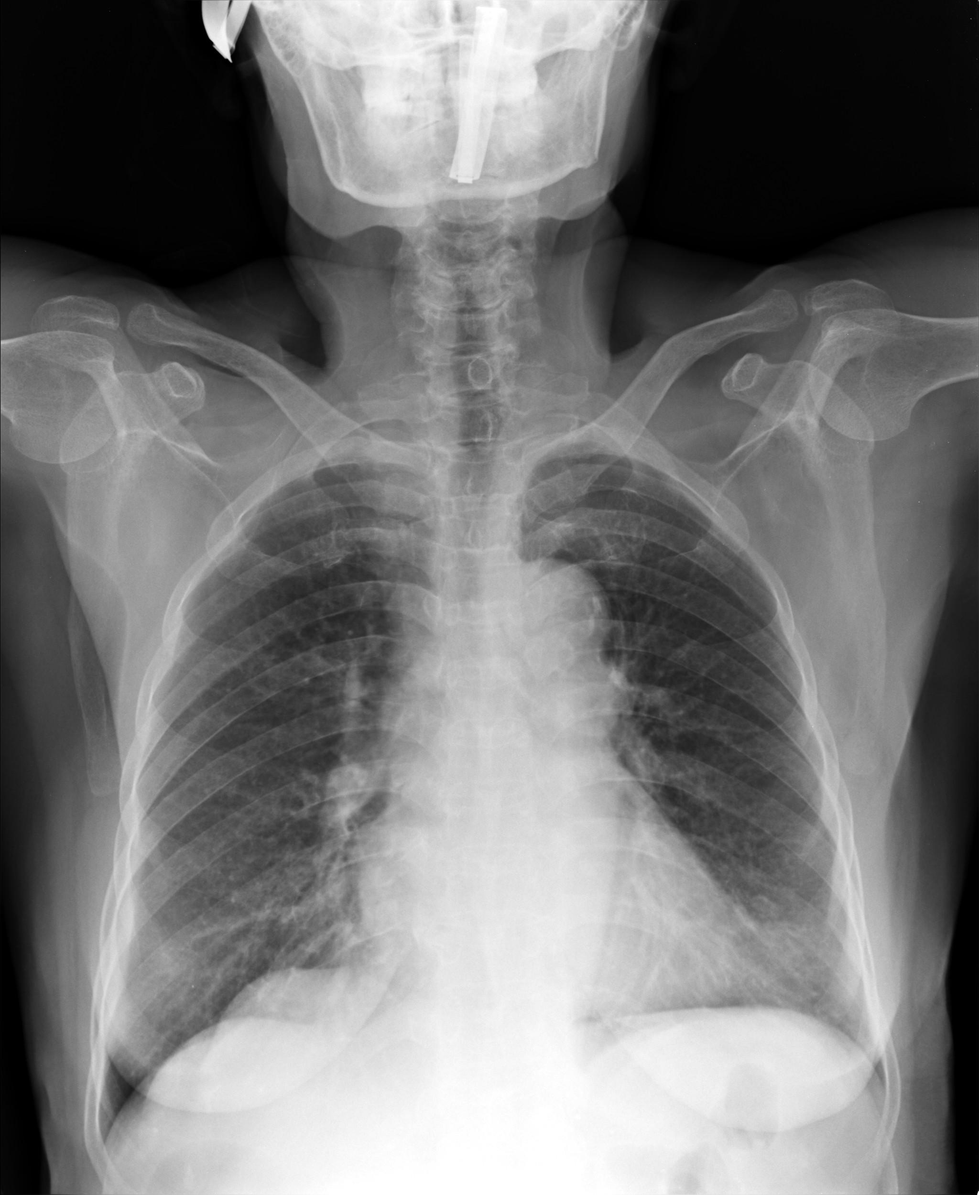Aortic enlargement: (489, 560, 611, 677)
Cardiomegaly: (351, 870, 753, 995)
